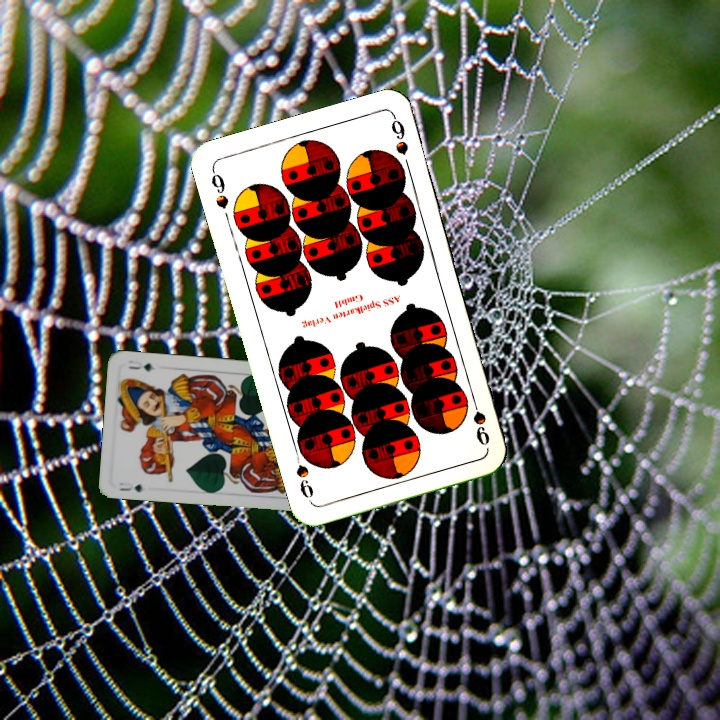GU: (115, 478, 145, 494)
S9: (467, 391, 493, 449), (207, 165, 231, 211)
